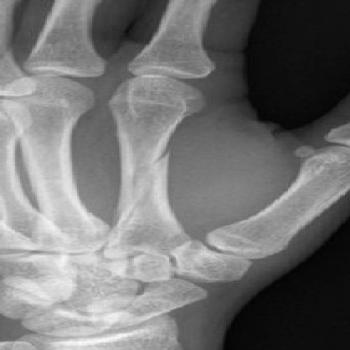Fracture: (132, 144, 181, 180)
